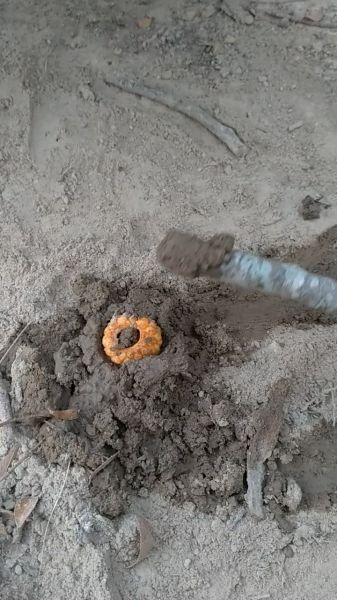eggs: (99, 307, 167, 366)
